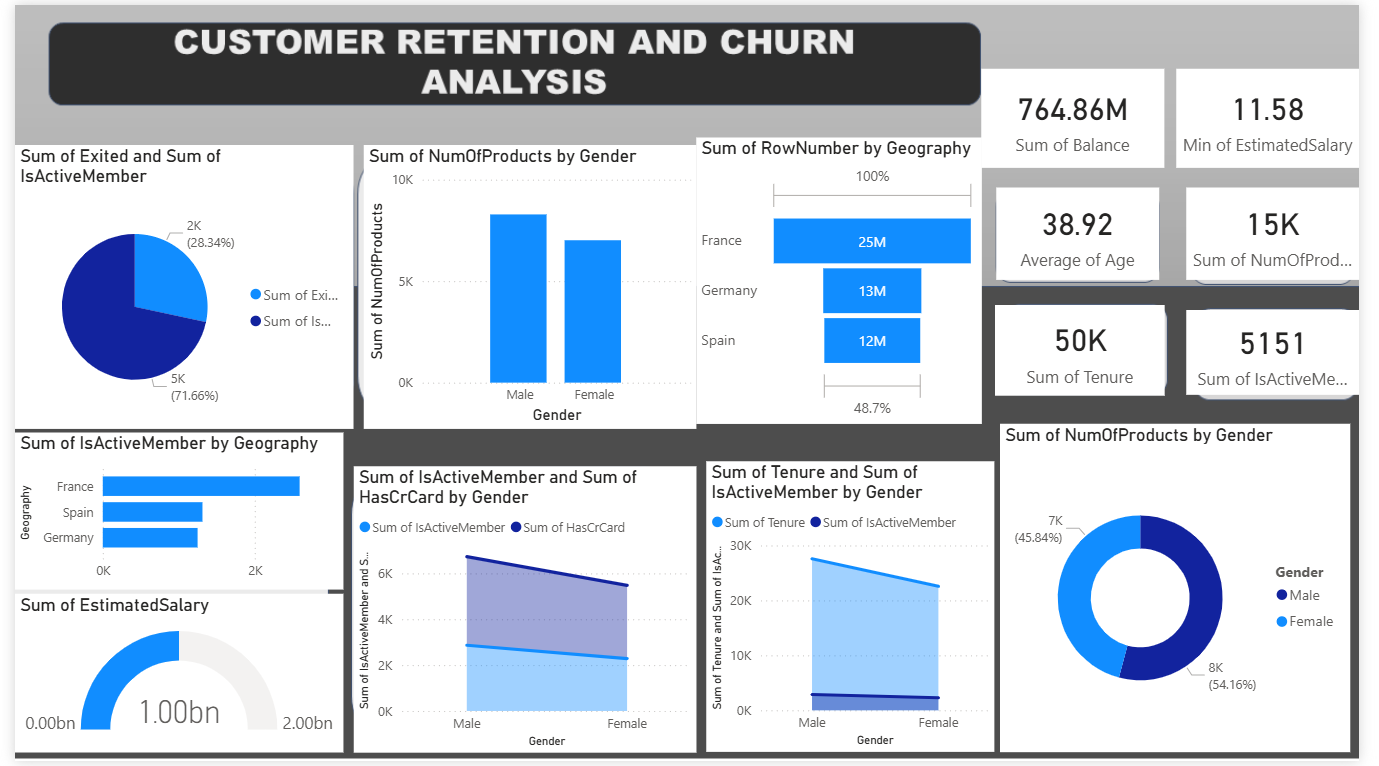

This screenshot's page, from the dashboard's own definition file:
{"tool":"powerbi","page":{"name":"Page 1","canvas":[1280,720],"ordinal":0},"visuals":[{"type":"card","fields":{"Values":["Sum(Churn_Modelling.NumOfProducts)"]},"box":[1115.6,174.3,164.7,87.8],"z":0},{"type":"card","fields":{"Values":["Sum(Churn_Modelling.Tenure)"]},"box":[933.1,285.4,161.9,86.4],"z":1},{"type":"card","fields":{"Values":["Sum(Churn_Modelling.IsActiveMember)"]},"box":[1115.6,290.9,164.7,81],"z":2},{"type":"donutChart","fields":{"Category":["Churn_Modelling.Gender"],"Y":["Sum(Churn_Modelling.NumOfProducts)"]},"box":[938.6,399.3,333.4,312.9],"z":3},{"type":"card","fields":{"Values":["Avg(Churn_Modelling.Age)"]},"box":[934.5,174.3,155.1,87.8],"z":4},{"type":"card","fields":{"Values":["Min(Churn_Modelling.EstimatedSalary)"]},"box":[1106,60.4,174.3,94.7],"z":5},{"type":"card","fields":{"Values":["Sum(Churn_Modelling.Balance)"]},"box":[920.8,60.4,174.3,94.7],"z":6},{"type":"columnChart","fields":{"Y":["Sum(Churn_Modelling.NumOfProducts)"],"Category":["Churn_Modelling.Gender"]},"box":[332.1,133.1,317,270.3],"z":7},{"type":"areaChart","fields":{"Y":["Sum(Churn_Modelling.Tenure)","Sum(Churn_Modelling.IsActiveMember)"],"Category":["Churn_Modelling.Gender"]},"box":[658.7,435,274.4,277.2],"z":8},{"type":"funnel","fields":{"Category":["Churn_Modelling.Geography"],"Y":["Sum(Churn_Modelling.RowNumber)"]},"box":[649.1,126.2,271.7,273.1],"z":9},{"type":"barChart","fields":{"Category":["Churn_Modelling.Geography"],"Y":["Sum(Churn_Modelling.IsActiveMember)"]},"box":[0,407.5,312.9,149.6],"z":10},{"type":"pieChart","fields":{"Y":["Sum(Churn_Modelling.Exited)","Sum(Churn_Modelling.IsActiveMember)"]},"box":[0,133.1,322.5,270.3],"z":11},{"type":"gauge","fields":{"Y":["Sum(Churn_Modelling.EstimatedSalary)"]},"box":[0,561.2,312.9,150.9],"z":12},{"type":"stackedAreaChart","fields":{"Y":["Sum(Churn_Modelling.IsActiveMember)","Sum(Churn_Modelling.HasCrCard)"],"Category":["Churn_Modelling.Gender"]},"box":[322.5,439.1,326.6,273.1],"z":13}]}

Visuals, with their boxes in screenshot pixels (x1, y1, x2, y2), scaled from the page's 1280x720 canvas onto the 1379x766 screenshot:
card - Sum(Churn_Modelling.NumOfProducts): 1202,185,1378,279
card - Sum(Churn_Modelling.Tenure): 1005,304,1180,396
card - Sum(Churn_Modelling.IsActiveMember): 1202,309,1378,396
donutChart - Churn_Modelling.Gender x Sum(Churn_Modelling.NumOfProducts): 1011,425,1370,758
card - Avg(Churn_Modelling.Age): 1007,185,1174,279
card - Min(Churn_Modelling.EstimatedSalary): 1192,64,1378,165
card - Sum(Churn_Modelling.Balance): 992,64,1180,165
columnChart - Sum(Churn_Modelling.NumOfProducts) x Churn_Modelling.Gender: 358,142,699,429
areaChart - Sum(Churn_Modelling.Tenure) x Sum(Churn_Modelling.IsActiveMember): 710,463,1005,758
funnel - Churn_Modelling.Geography x Sum(Churn_Modelling.RowNumber): 699,134,992,425
barChart - Churn_Modelling.Geography x Sum(Churn_Modelling.IsActiveMember): 0,434,337,593
pieChart - Sum(Churn_Modelling.Exited) x Sum(Churn_Modelling.IsActiveMember): 0,142,347,429
gauge - Sum(Churn_Modelling.EstimatedSalary): 0,597,337,758
stackedAreaChart - Sum(Churn_Modelling.IsActiveMember) x Sum(Churn_Modelling.HasCrCard): 347,467,699,758
